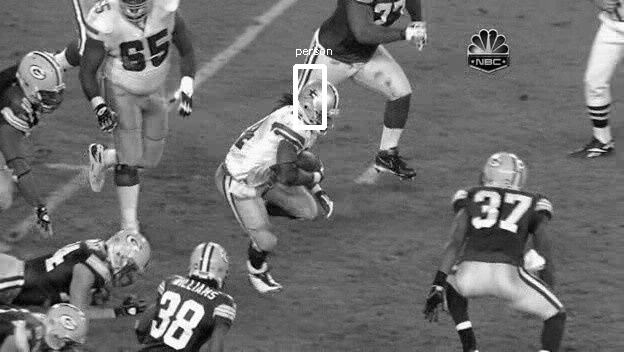person: (305, 82, 341, 132), (304, 82, 340, 132), (306, 82, 342, 132), (305, 81, 341, 131), (305, 83, 341, 133)
target_negative: (413, 110, 598, 329), (530, 275, 592, 303), (584, 250, 597, 336), (543, 75, 577, 90), (280, 325, 303, 347), (613, 196, 617, 229)
